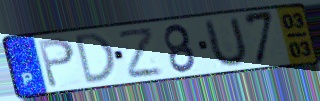7: (243, 9, 277, 68)
8: (162, 22, 198, 75)
D: (74, 31, 119, 87)
P: (35, 36, 76, 90)
U: (203, 15, 250, 70)
Z: (116, 25, 165, 81)
